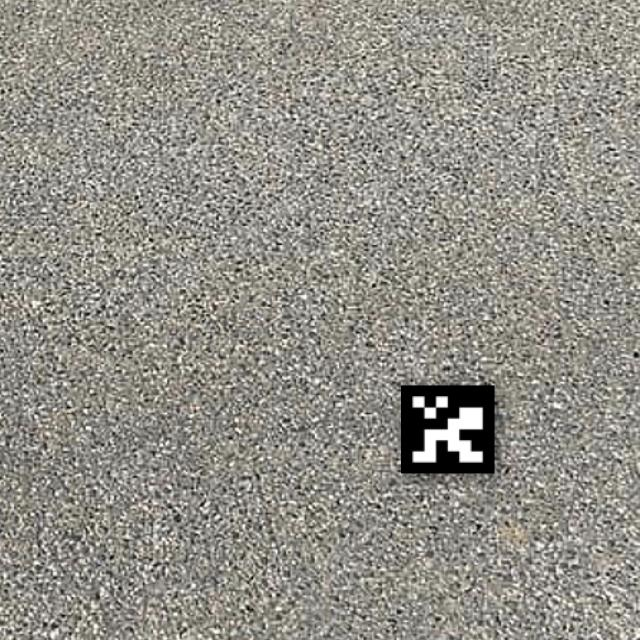marker: (391, 373, 507, 481)
